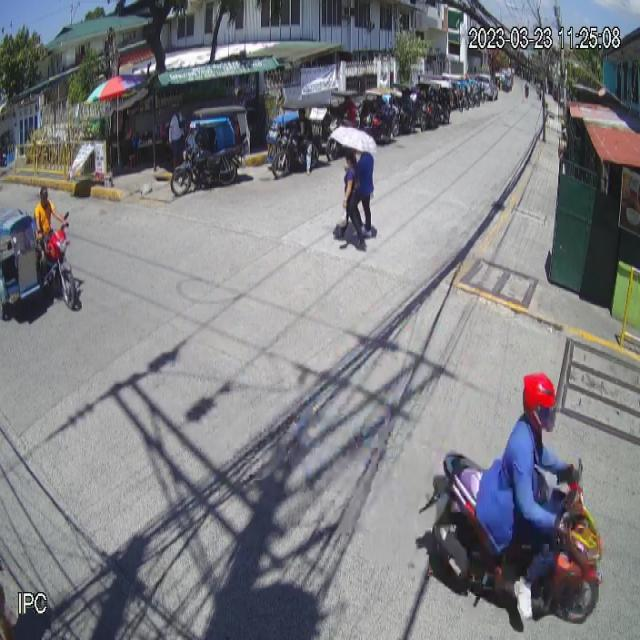Motorcycle: (418, 447, 604, 623)
Tricycle: (0, 207, 77, 320)
